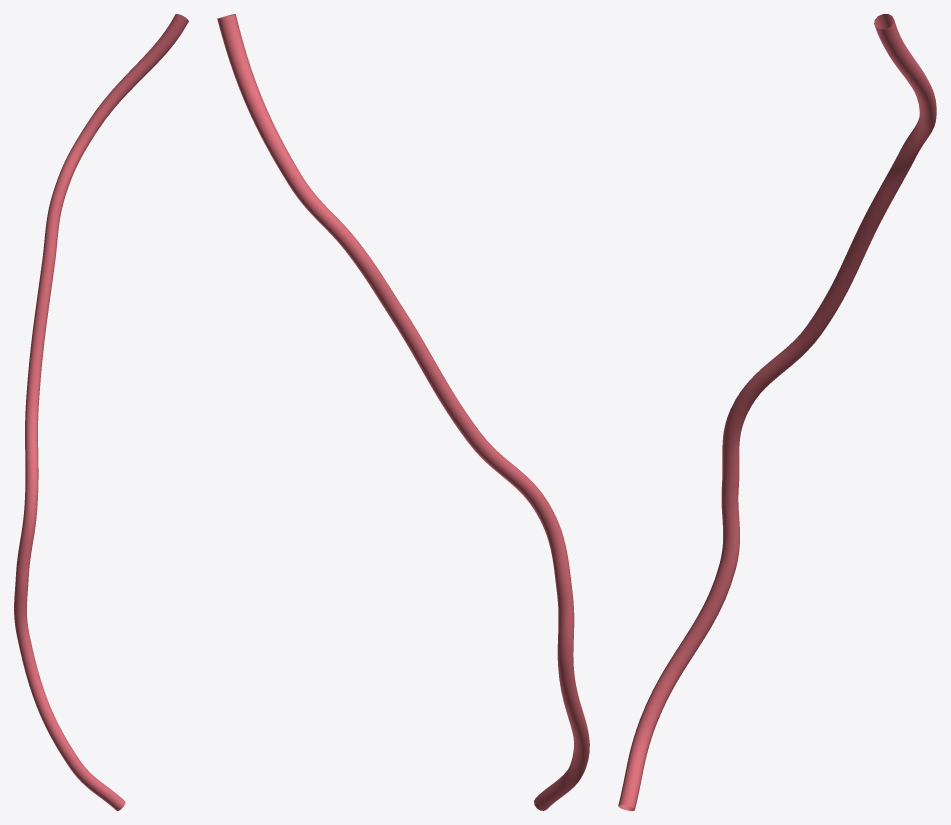
3 views of the same model, side by side, from view 1: azimuth 30°, elevation 25°; view 2: azimuth 150°, elevation 25°; view 3: azimuth 270°, elevation 25° (orthographic). The views are drawn at different scales.
Visible parts, largest first — view 1: ZA_ad17ee95977d7a2f; view 2: ZA_ad17ee95977d7a2f; view 3: ZA_ad17ee95977d7a2f.
Boxes of the visible parts, x1=… form: ZA_ad17ee95977d7a2f: x1=14, y1=14, x2=188, y2=810; ZA_ad17ee95977d7a2f: x1=217, y1=14, x2=589, y2=810; ZA_ad17ee95977d7a2f: x1=618, y1=14, x2=936, y2=810.
Bounding box in the file's own units: 0.0509 × 0.1437 × 0.0462.
